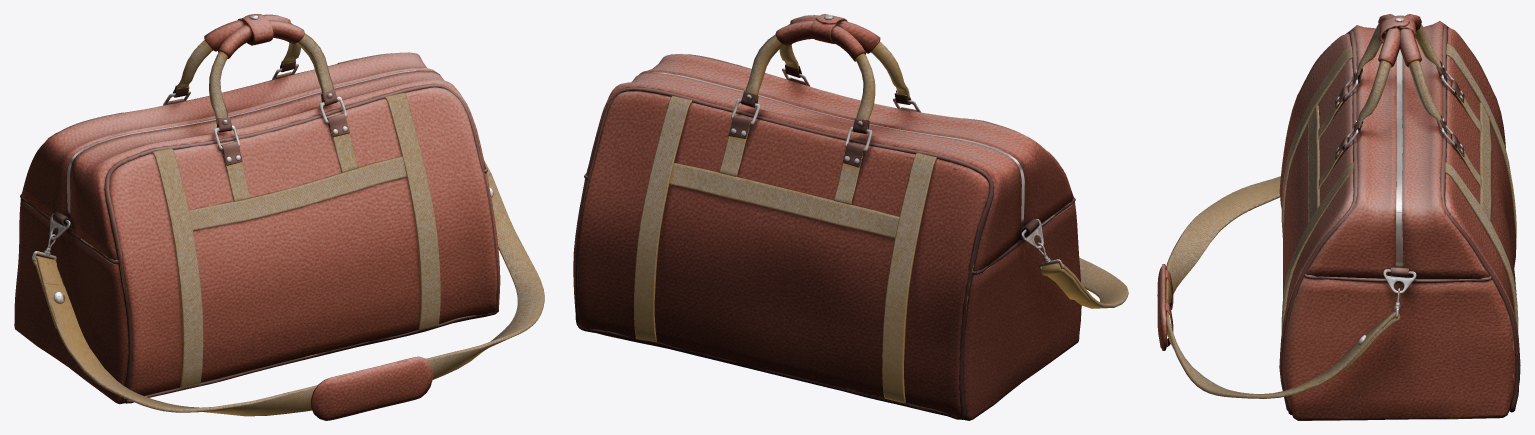
The model's file is Product_Bag_0.8x0.5x0.5.glb.
3 views of the same model, side by side, from view 1: azimuth 30°, elevation 25°; view 2: azimuth 150°, elevation 25°; view 3: azimuth 270°, elevation 25° (orthographic). The views are drawn at different scales.
Parts seen in each view (by area): view 1: Bag_Baked; view 2: Bag_Baked; view 3: Bag_Baked.
Boxes of the visible parts, x1=… form: Bag_Baked: x1=14, y1=14, x2=544, y2=420; Bag_Baked: x1=573, y1=14, x2=1128, y2=420; Bag_Baked: x1=1157, y1=14, x2=1520, y2=420.
Bounding box in the file's own units: 0.7171 × 0.4672 × 0.4958.
1 material, 1 textured.
